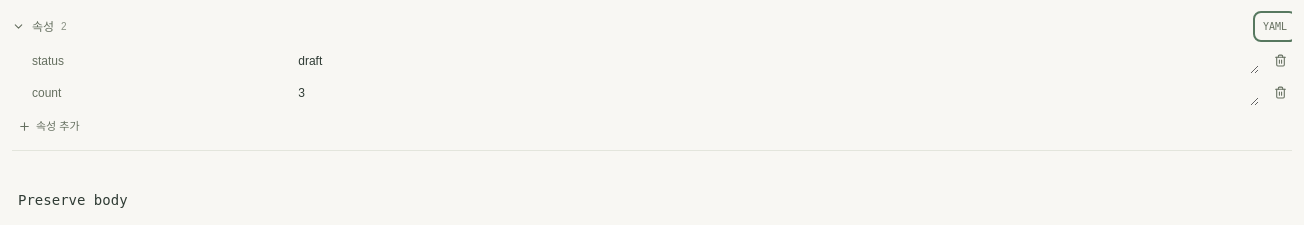
Scenario: YAML button transfers focus from the property widget to editable source
Click the button with aria-label "YAML 원문 편집".
click(1275, 26)  # box [1258,16,1292,37]
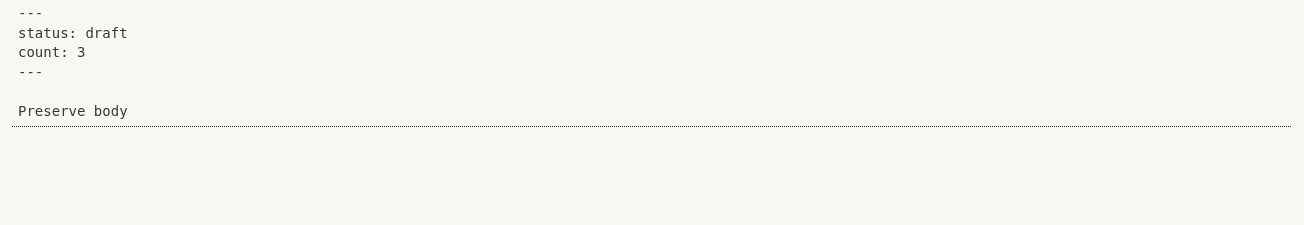
Expected: the element with class "frontmatter-panel" is gone
